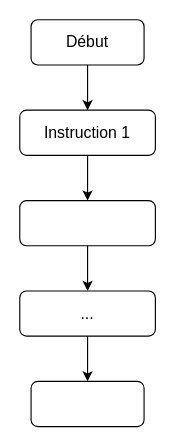
The diagram is 175 pixels wide and 446 high, and some of its shapes have lost their labels. Here are the shapes that lost their labels. From the top down, the centre of each, then its label:
the point at 87,222: Instruction 2
the point at 87,403: Fin
